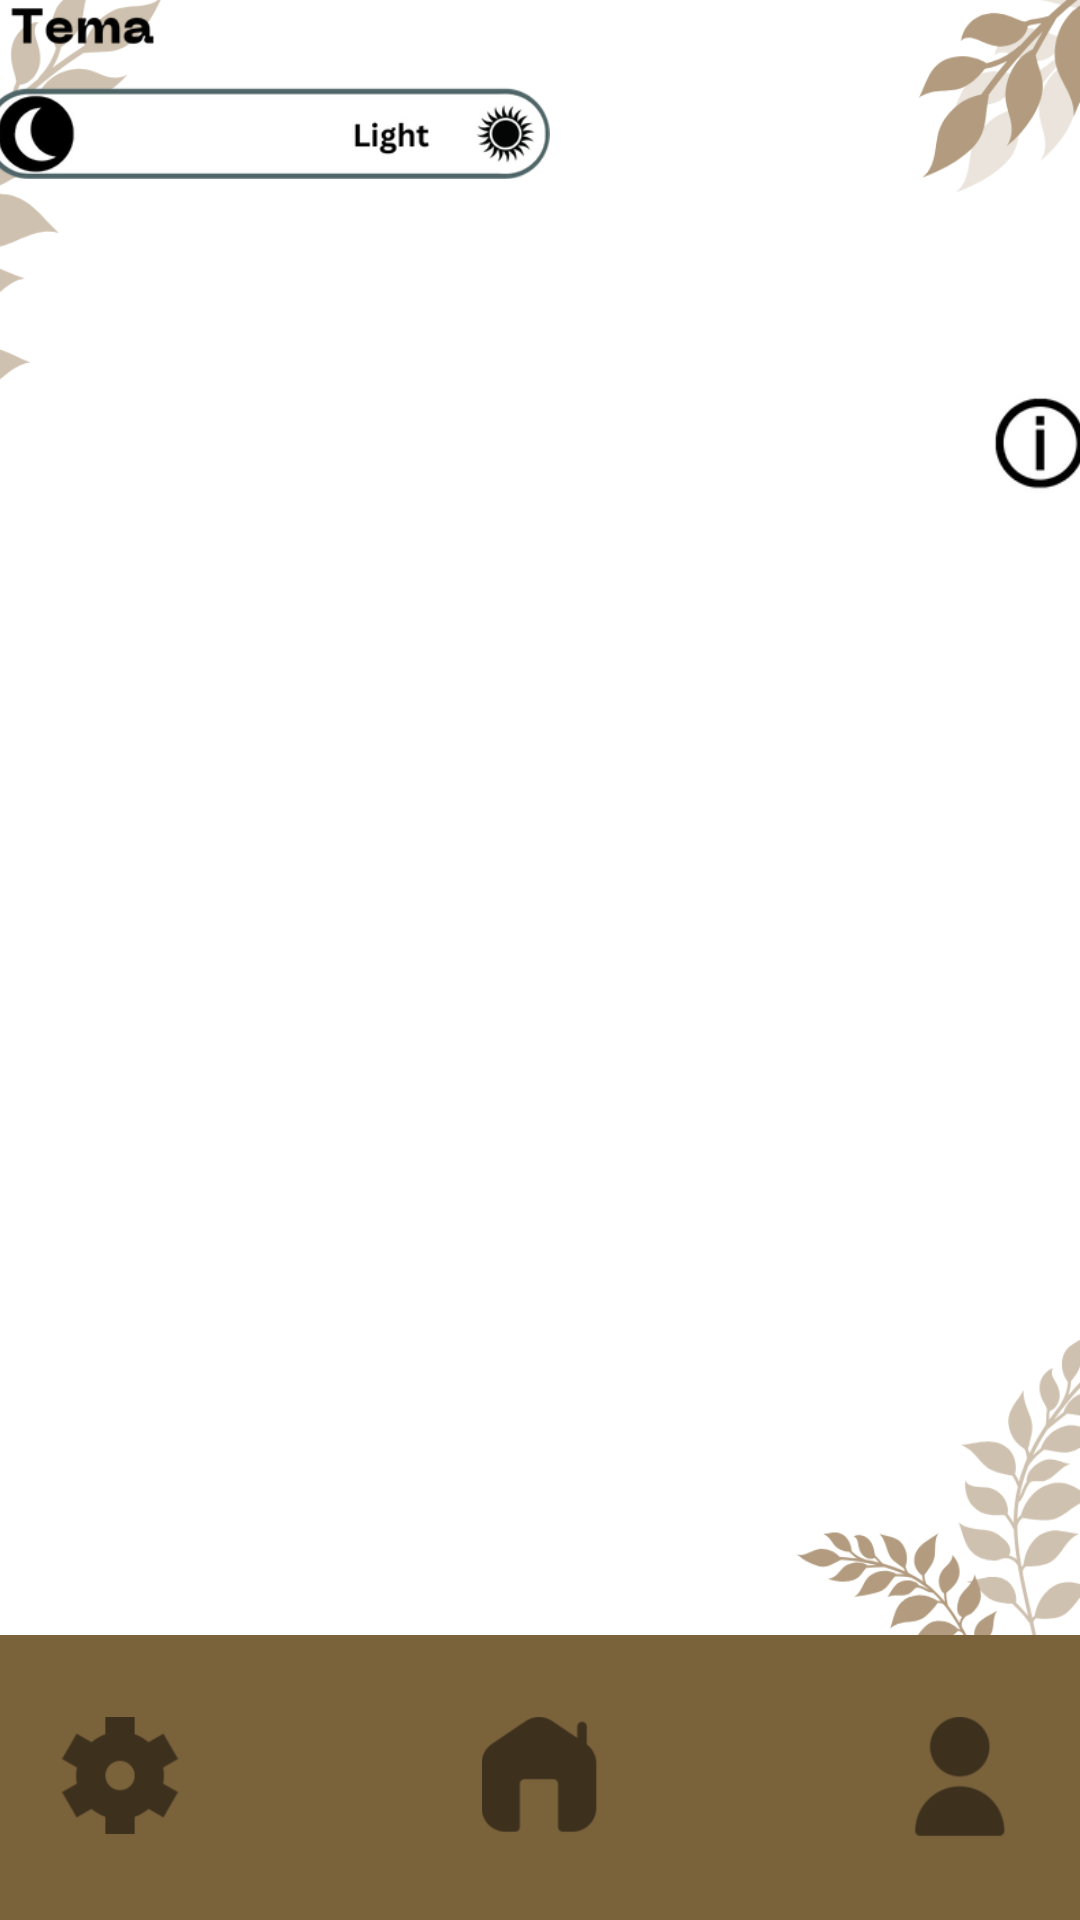

Icons on this 1080w x 1920h Android screen, each with its box as (x1, y1, x2, y2):
Home Page: (482, 1717, 596, 1832)
